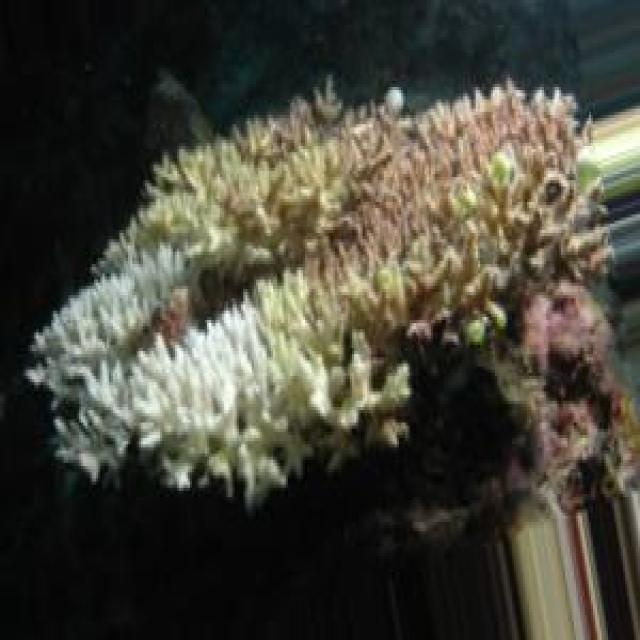bleached coral: (130, 367, 215, 469), (175, 301, 271, 385), (36, 314, 113, 376), (105, 277, 151, 329)
healthy coral: (282, 127, 390, 205), (256, 280, 356, 360), (416, 124, 512, 202), (535, 283, 612, 379), (203, 168, 277, 242), (529, 93, 578, 190), (350, 230, 420, 295), (459, 233, 510, 311)
